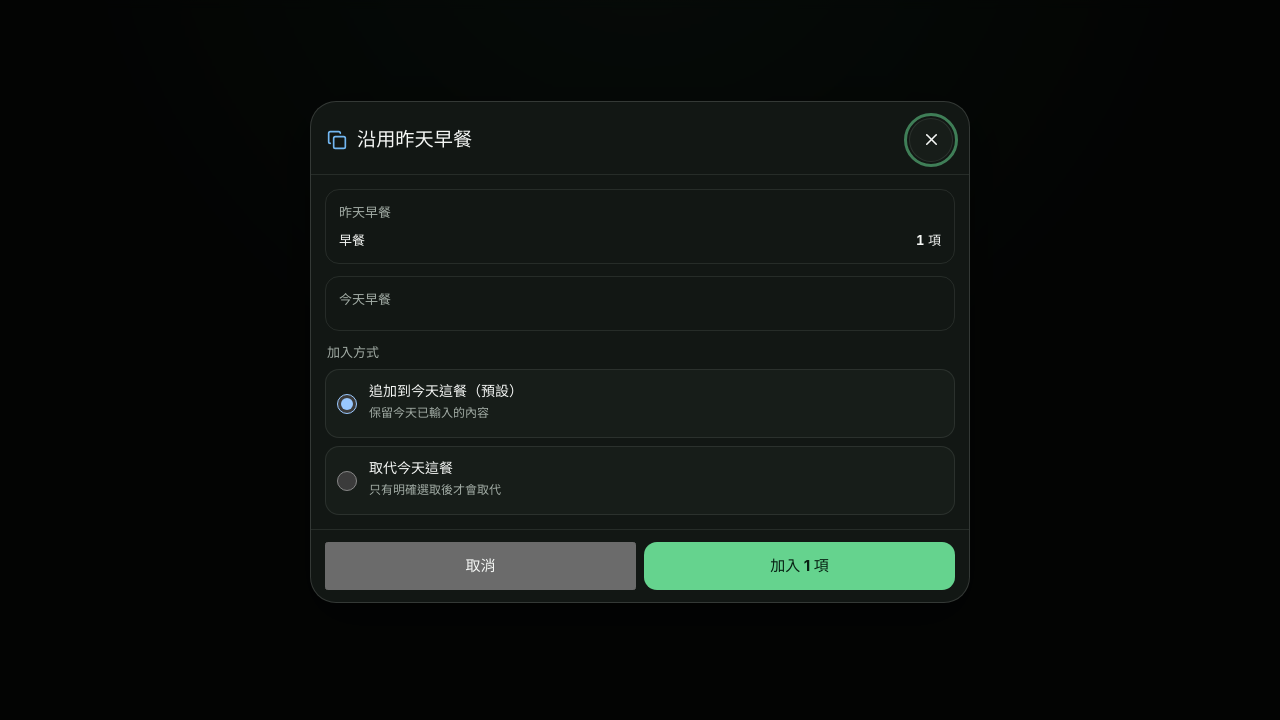
Test: meal operation sheets › defaults copy to append and reports a failed confirmation inside the sheet
Expected: the radio button labelled "追加到今天這餐（預設） 保留今天已輸入的內容" is checked, left=337, top=382, right=357, bottom=426
Step 1. Click the button "加入 1 項" → [800, 566], box left=644, top=542, right=955, bottom=590
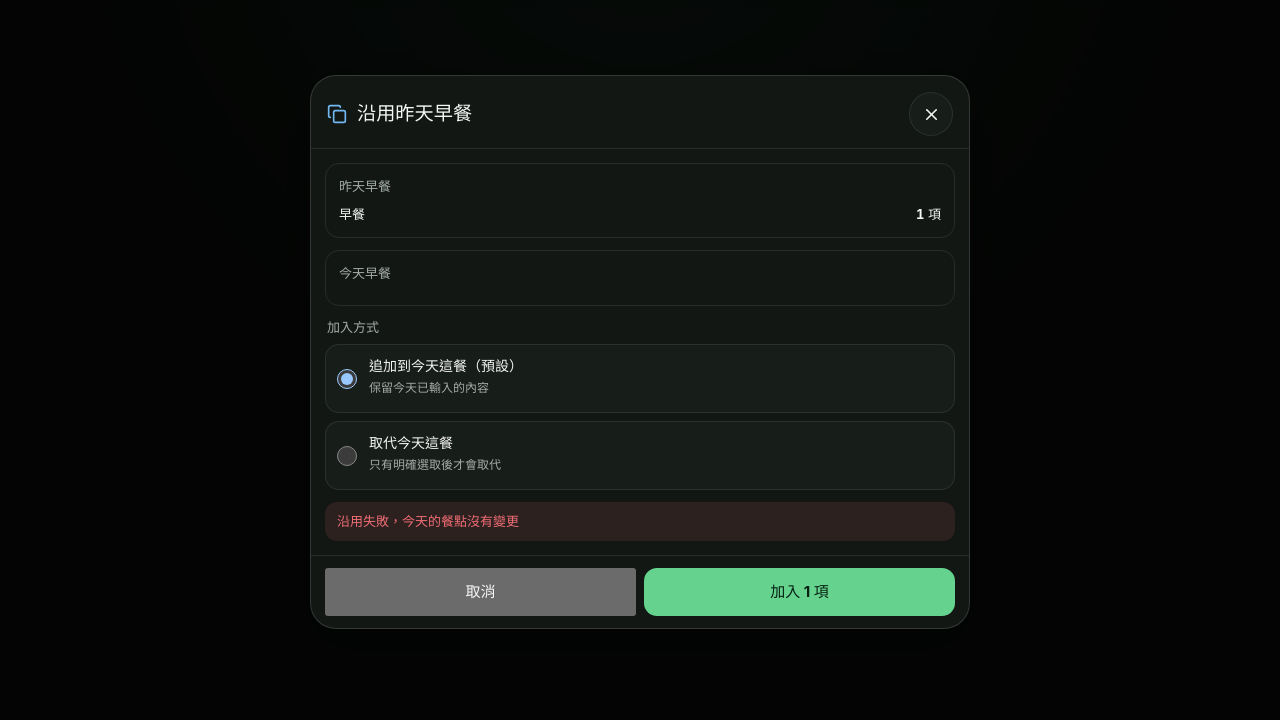
Expected: the dialog "沿用昨天早餐" is shown, left=310, top=75, right=970, bottom=629
Now the message shows "沿用失敗", box left=337, top=513, right=519, bottom=529
